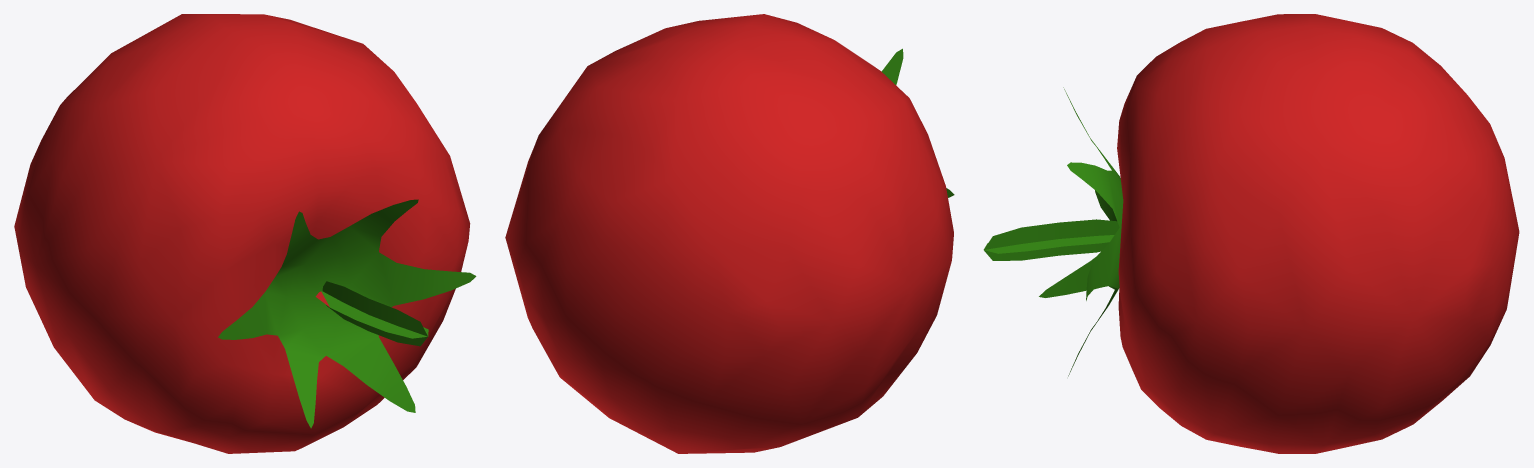
Rendered from Tomato.fbx.
3 renders of one model, left to right at view 1: azimuth 30°, elevation 25°; view 2: azimuth 150°, elevation 25°; view 3: azimuth 270°, elevation 25°, orthographic.
Visible parts, largest first — view 1: Tomato; view 2: Tomato; view 3: Tomato.
Part boxes in pixels (x1,y1,x2,y2): Tomato: (14,14,476,453); Tomato: (505,14,954,453); Tomato: (983,14,1519,453).
Size of the model in its own units: 16.03 by 15.93 by 18.96.
